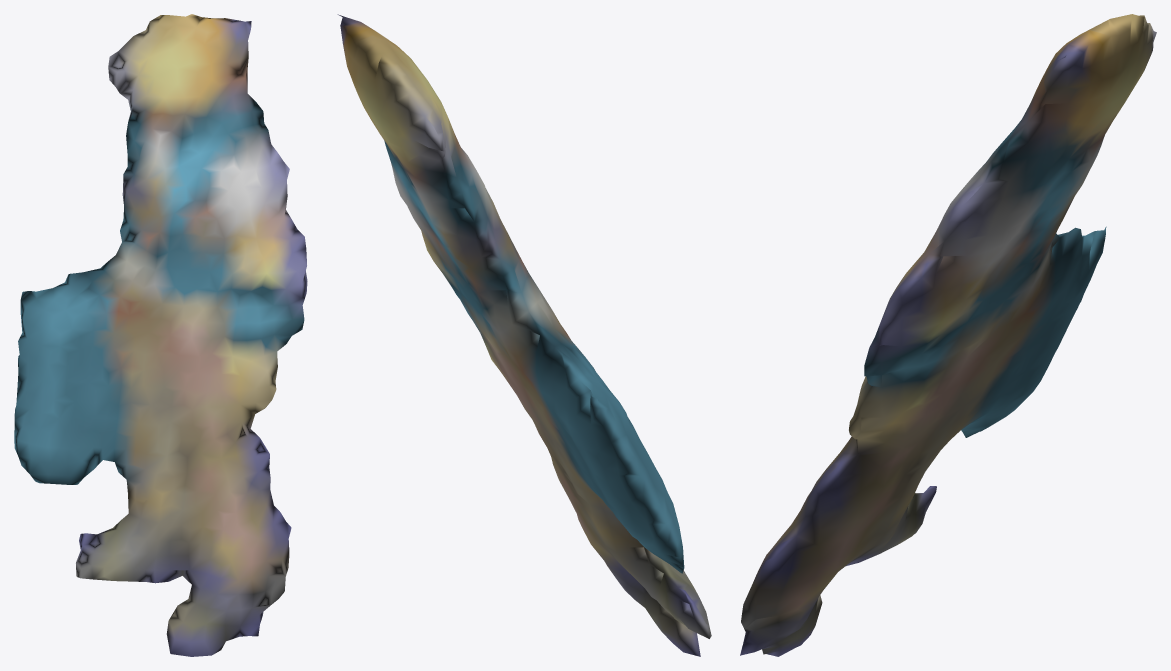
File: allied_engineer.glb
3 renders of one model, left to right at view 1: azimuth 30°, elevation 25°; view 2: azimuth 150°, elevation 25°; view 3: azimuth 270°, elevation 25°, orthographic. The views are drawn at different scales.
Parts seen in each view (by area): view 1: allied_engineer; view 2: allied_engineer; view 3: allied_engineer.
Boxes of the visible parts, box(x1,y1,x2,y2) form: allied_engineer: box(14, 14, 307, 656); allied_engineer: box(337, 14, 711, 656); allied_engineer: box(740, 14, 1156, 656).
Size of the model in its own units: 0.9774 by 1.98 by 1.06.
